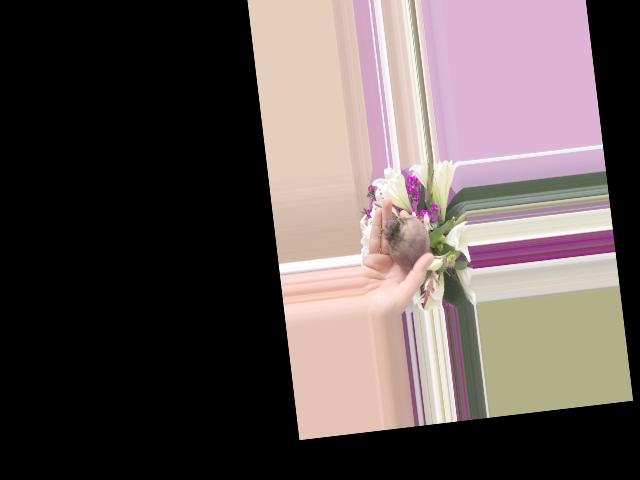beet: (383, 209, 452, 271)
